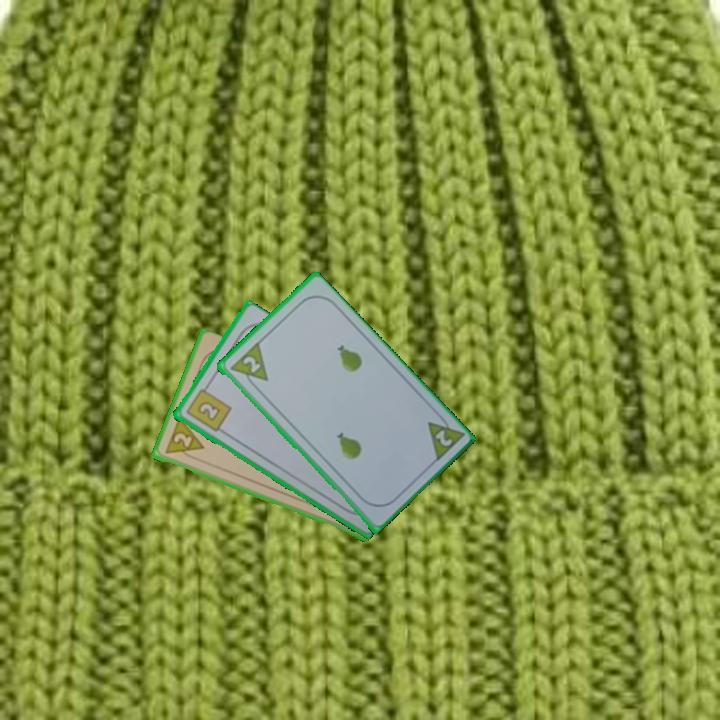2b: (182, 381, 234, 435)
2p: (226, 339, 271, 393), (161, 415, 206, 463), (431, 426, 455, 449)
